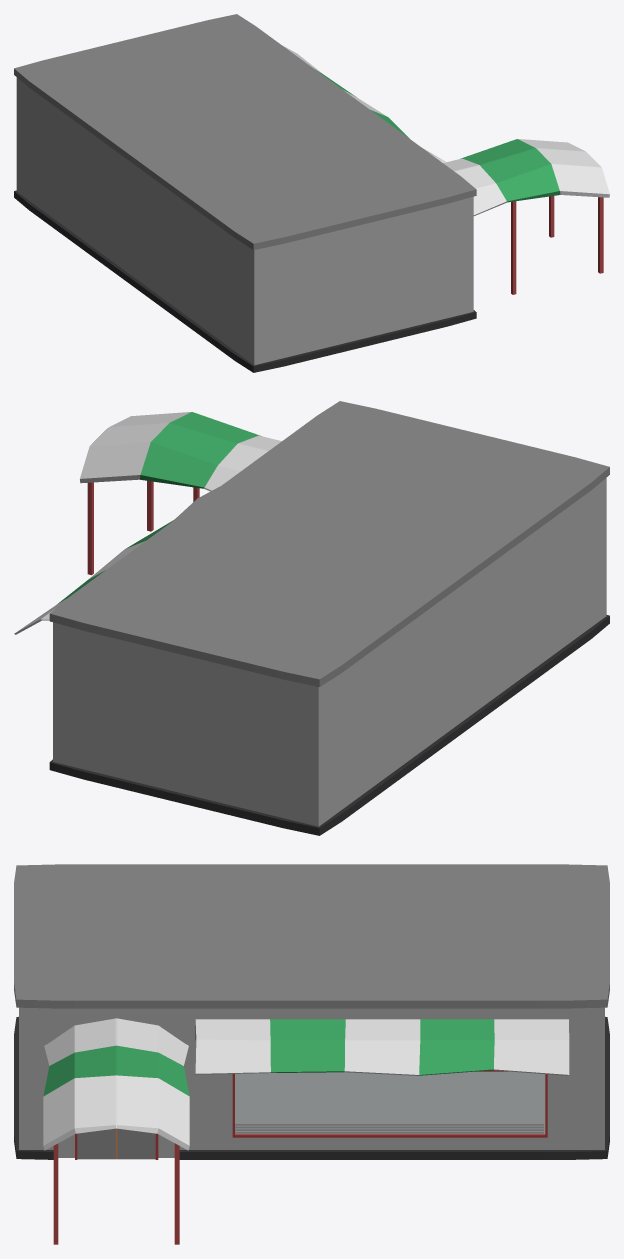
The model's file is Building_12.fbx.
3 renders of one model, top to bottom at view 1: azimuth 30°, elevation 25°; view 2: azimuth 150°, elevation 25°; view 3: azimuth 270°, elevation 25°, orthographic. The views are drawn at different scales.
Visible parts, largest first — view 1: pCube33; view 2: pCube33; view 3: pCube33.
Boxes of the visible parts, x1,y1,x2,y2 form: pCube33: (14,14,609,372); pCube33: (14,401,609,835); pCube33: (14,864,609,1244).
Bounding box in the file's own units: 13.72 × 4.5 × 15.25.
